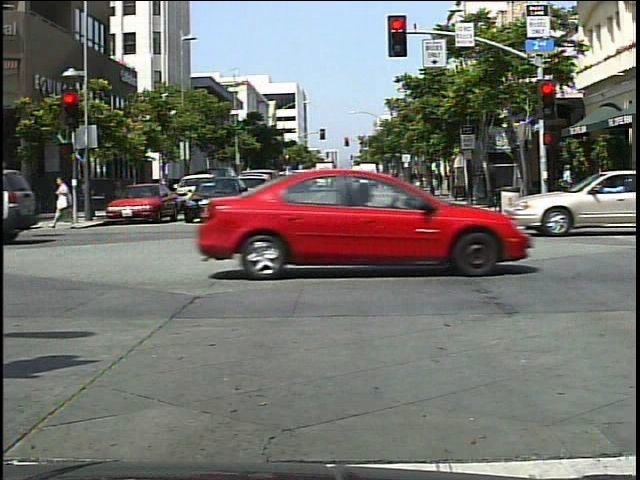person: (53, 170, 82, 233), (556, 162, 579, 213)
